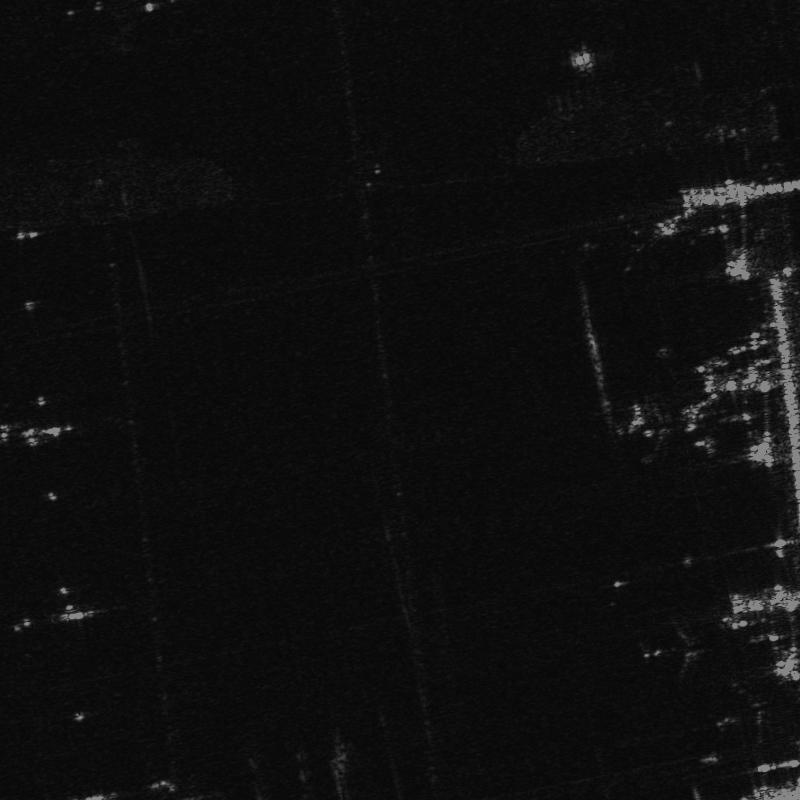Boeing787: (643, 616, 723, 684), (714, 684, 783, 741)
